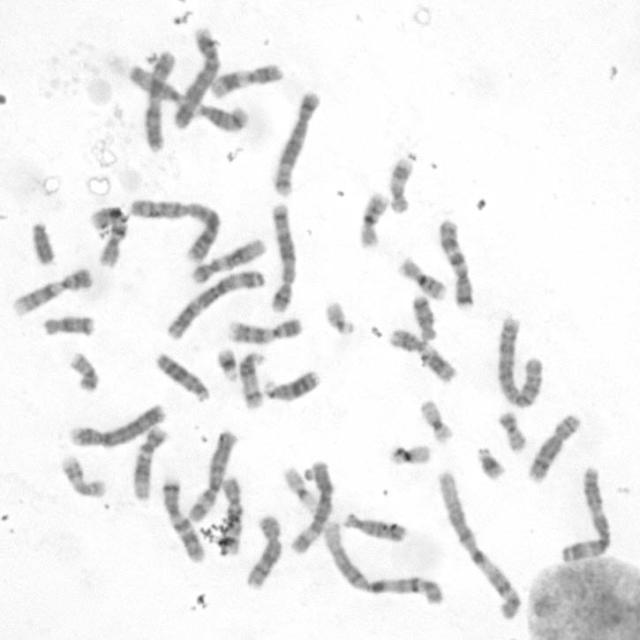A1: (436, 468, 523, 621), (320, 521, 445, 605)
A2: (129, 196, 222, 266), (494, 314, 544, 409)
A3: (164, 270, 265, 341), (559, 466, 612, 566)
B4: (173, 28, 224, 128), (66, 402, 167, 448)
B5: (273, 90, 320, 198), (266, 202, 298, 314)
C10: (86, 202, 130, 272), (218, 476, 245, 556)
C11: (388, 328, 459, 386), (209, 62, 285, 101)
C12: (189, 236, 267, 285), (132, 427, 172, 501)
C6: (186, 429, 237, 524), (290, 460, 334, 554)
C7: (159, 476, 206, 564), (439, 219, 475, 307)
C8: (527, 414, 582, 482), (245, 514, 284, 592)
C9: (10, 268, 98, 317), (225, 315, 305, 346)
D13: (154, 351, 212, 405), (264, 370, 322, 406)
D14: (193, 103, 249, 133), (238, 351, 266, 408)
D15: (342, 511, 408, 544), (128, 63, 179, 104)
E16: (396, 256, 447, 302), (357, 190, 393, 250)
E17: (61, 454, 108, 500), (387, 157, 414, 216)
E18: (43, 312, 96, 338), (411, 295, 438, 341)
F19: (282, 466, 317, 511), (419, 400, 454, 444)
F20: (67, 350, 100, 393), (497, 411, 528, 452)
G21: (475, 446, 508, 481), (218, 346, 238, 382)
G22: (324, 299, 359, 336), (390, 442, 434, 466)
X: (143, 50, 179, 156)
Y: (34, 221, 56, 265)
